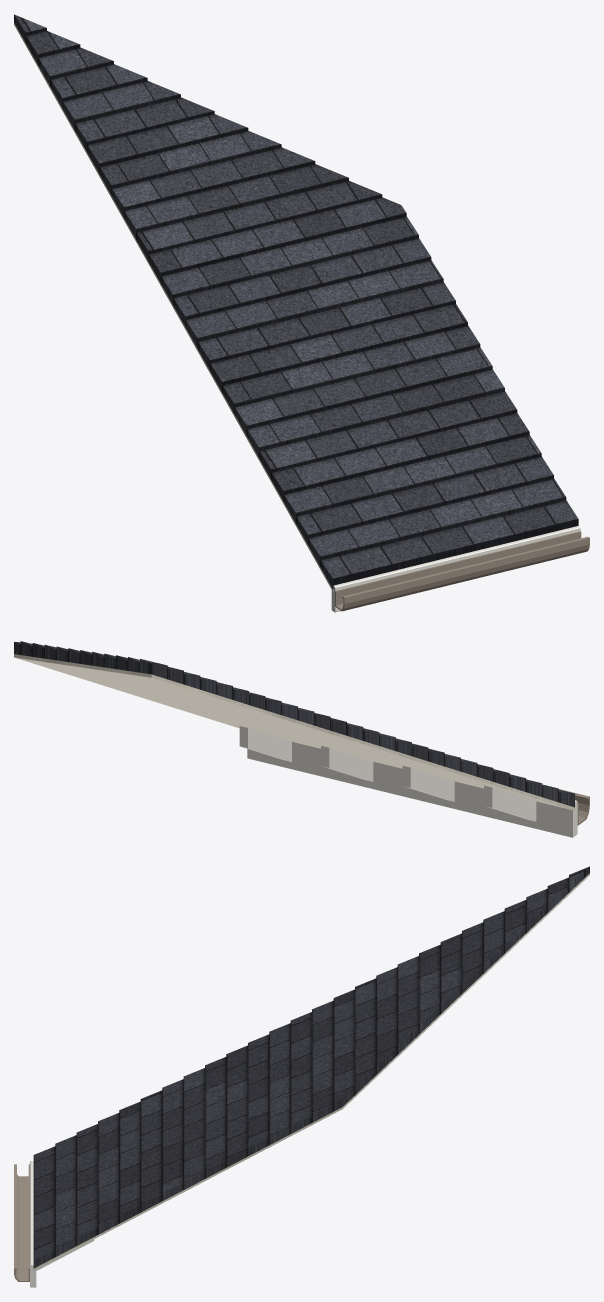
The model's file is roof_main_4.glb.
The picture shows the model from 3 angles, top to bottom: view 1: azimuth 30°, elevation 25°; view 2: azimuth 150°, elevation 25°; view 3: azimuth 270°, elevation 25°; orthographic projection. The views are drawn at different scales.
Parts seen in each view (by area): view 1: roof_main_4_shingles, roof_main_4_gutter, roof_main_4_trim, roof_main_4_plaster; view 2: roof_main_4_trim, roof_main_4_plaster, roof_main_4_shingles, roof_main_4_gutter; view 3: roof_main_4_shingles, roof_main_4_gutter, roof_main_4_plaster, roof_main_4_trim.
Boxes of the visible parts, x1,y1,x2,y2 form: roof_main_4_shingles: (14, 14, 578, 589); roof_main_4_gutter: (335, 531, 589, 611); roof_main_4_trim: (331, 526, 580, 612); roof_main_4_plaster: (14, 22, 333, 591); roof_main_4_trim: (239, 726, 577, 837); roof_main_4_plaster: (14, 654, 574, 810); roof_main_4_shingles: (14, 641, 574, 807); roof_main_4_gutter: (558, 789, 589, 825); roof_main_4_shingles: (33, 866, 589, 1268); roof_main_4_gutter: (14, 1164, 29, 1281); roof_main_4_plaster: (33, 873, 589, 1270); roof_main_4_trim: (30, 1161, 94, 1287).
Bounding box in the file's own units: 2 × 2.83 × 4.66.
4 materials, 2 textured.
